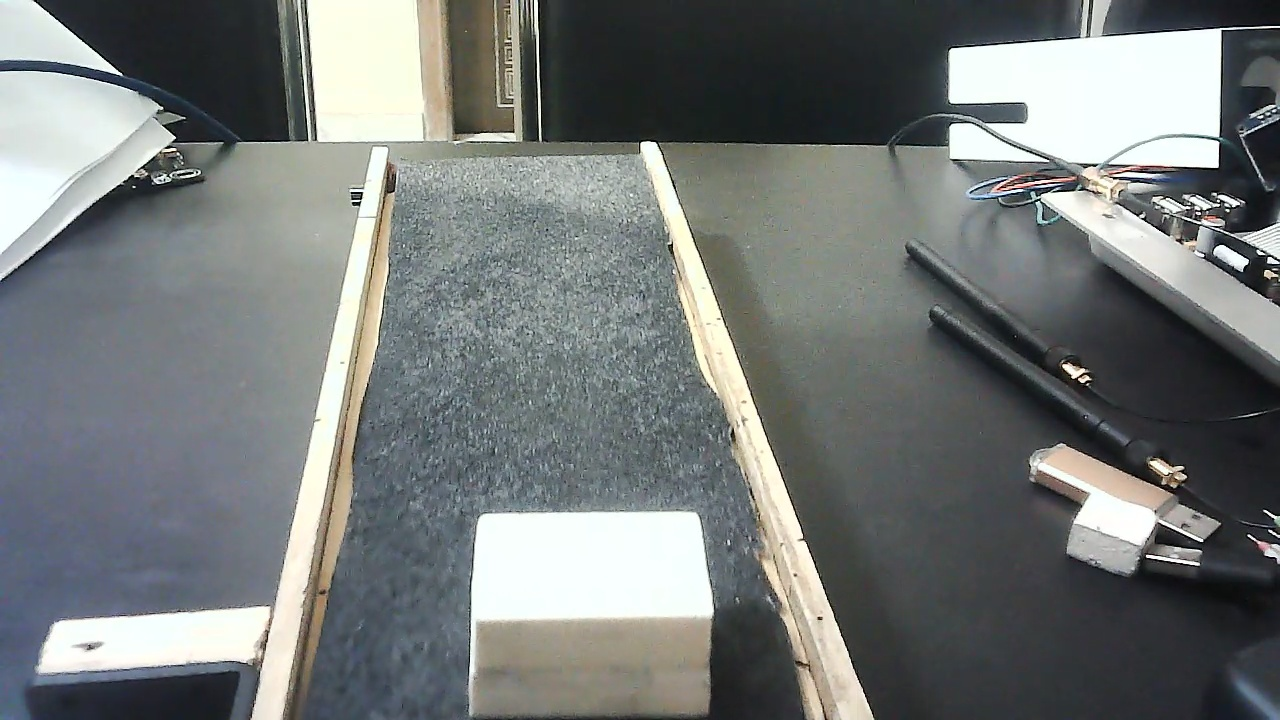BIG: (467, 474, 713, 720)
